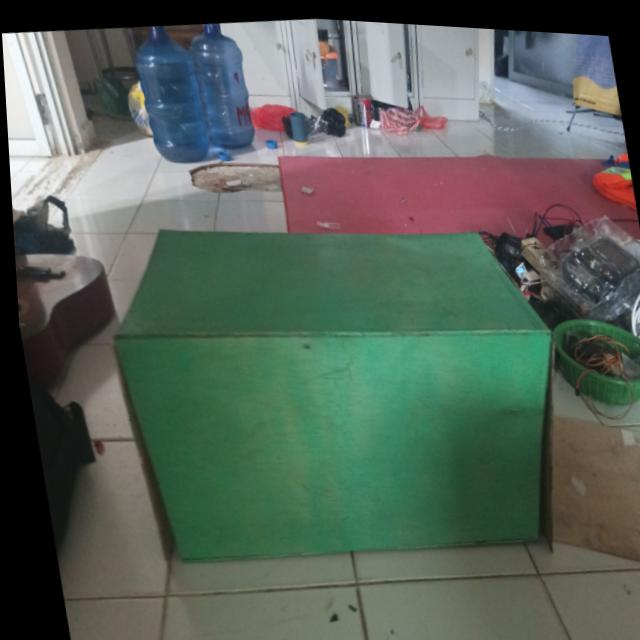green_box: (52, 174, 595, 640)
